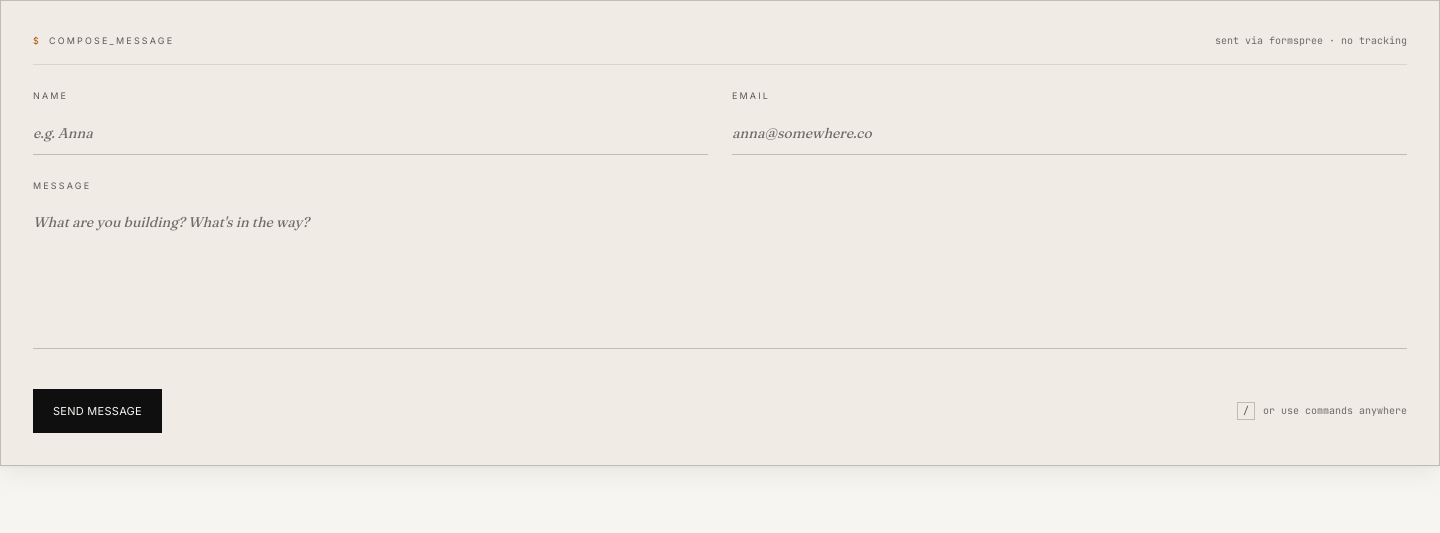
Scenario: ContactForm › shows success alert after submit
The image size is (1440, 533).
Type "Test" into the field labelled "Name". click: (370, 133)
box: x1=33 y1=111 x2=708 y2=155
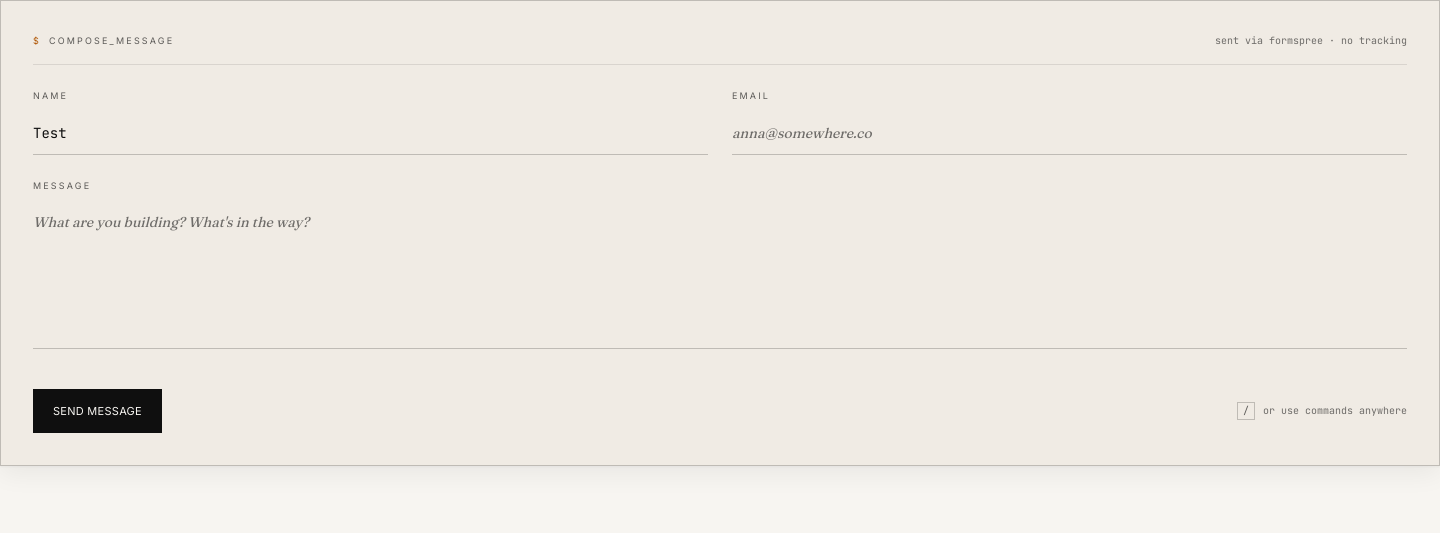
Type "t@x.com" into the field labelled "Email". click: (1070, 133)
box: x1=732 y1=111 x2=1407 y2=155
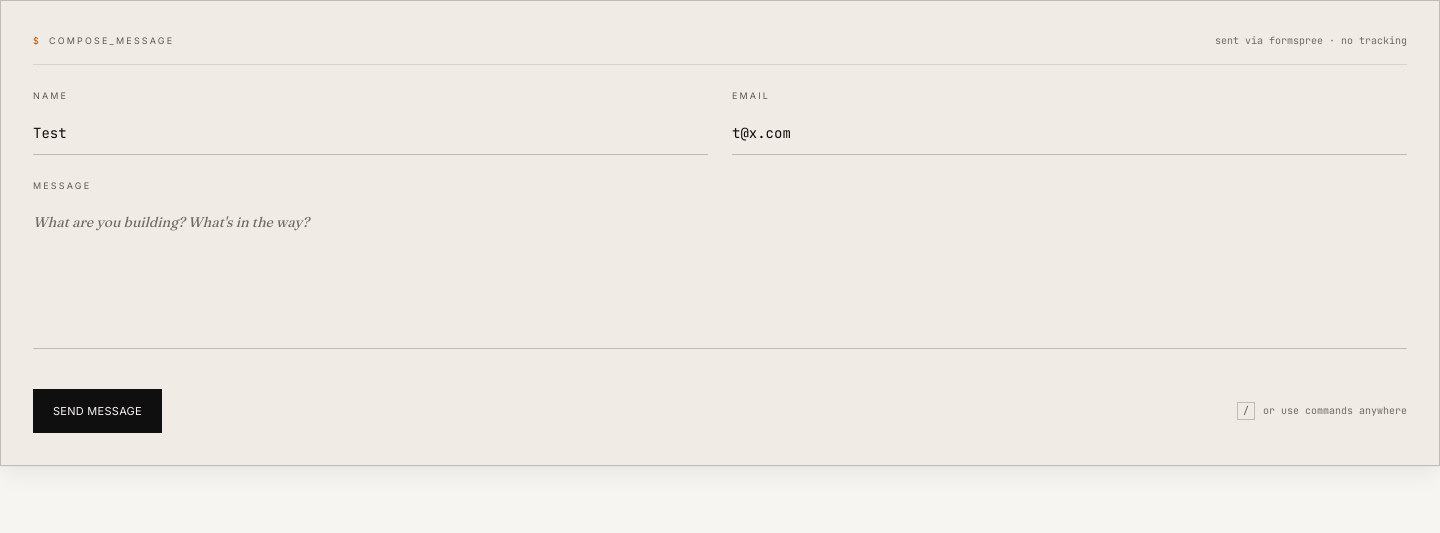
Type "hi" into the text box labelled "Message". click: (720, 276)
box: x1=33 y1=202 x2=1407 y2=349
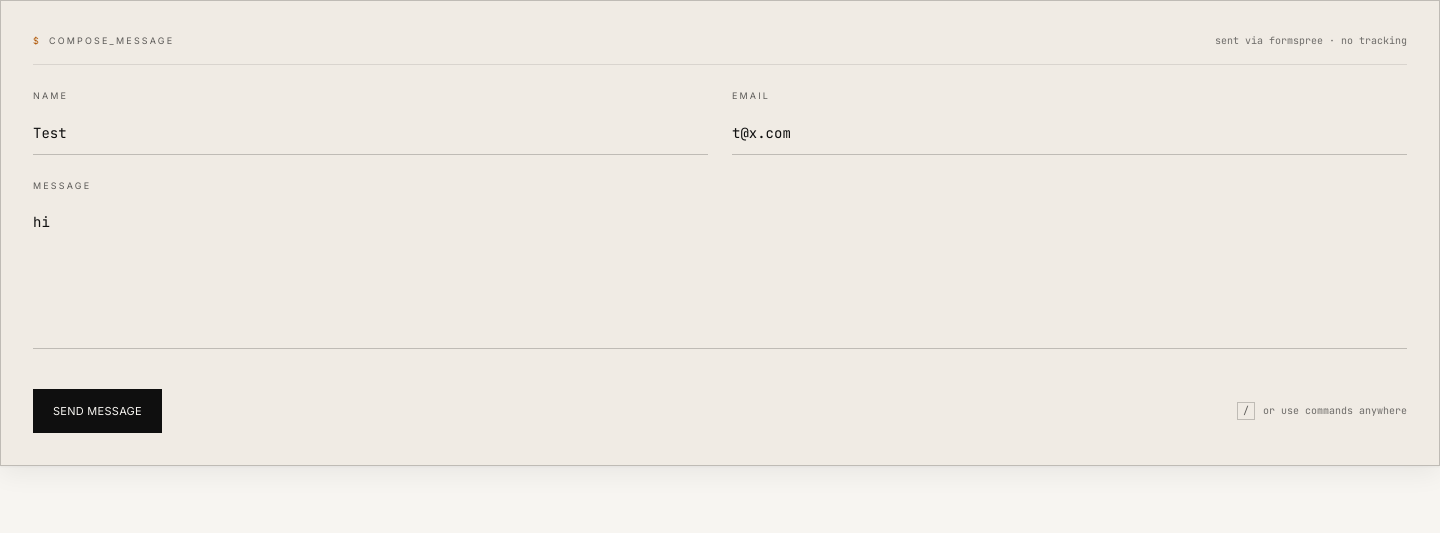
Click the button "Send message". click: (98, 411)
box: x1=33 y1=389 x2=162 y2=433
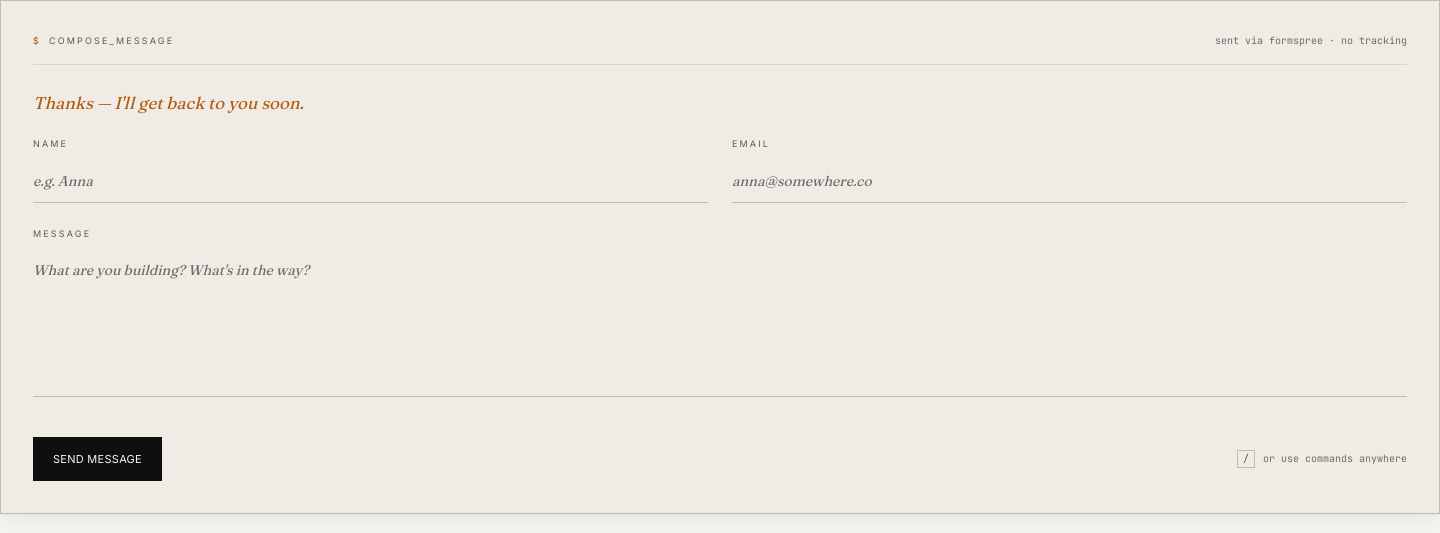
Check: the text "Thanks — I'll get back to you soon." is shown, box x1=33 y1=92 x2=304 y2=112
